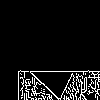E: (25, 26, 63, 82)
